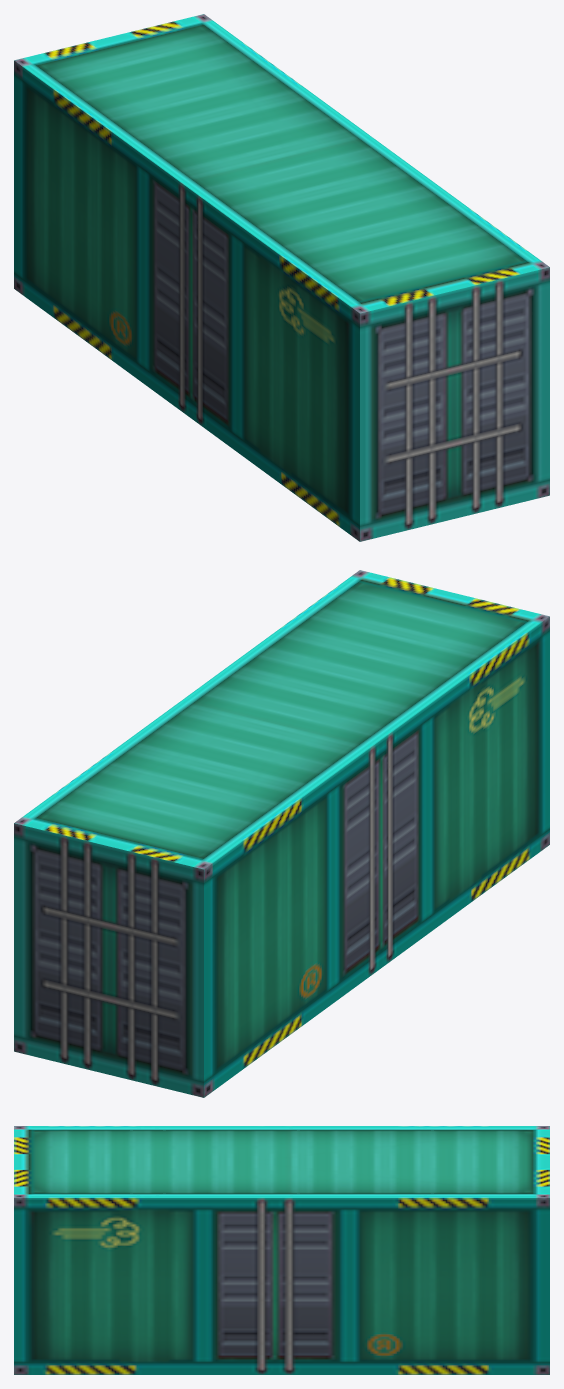
The model's file is Block_JiZhuangXiang.FBX.
3 renders of one model, top to bottom at view 1: azimuth 30°, elevation 25°; view 2: azimuth 150°, elevation 25°; view 3: azimuth 270°, elevation 25°, orthographic. The views are drawn at different scales.
Parts seen in each view (by area): view 1: Block_JiZhuangXiang; view 2: Block_JiZhuangXiang; view 3: Block_JiZhuangXiang.
Boxes of the visible parts, bbox=[...] form: Block_JiZhuangXiang: bbox=[14, 14, 549, 541]; Block_JiZhuangXiang: bbox=[14, 570, 549, 1097]; Block_JiZhuangXiang: bbox=[14, 1126, 549, 1374].
Size of the model in its own units: 221 by 254 by 697.
